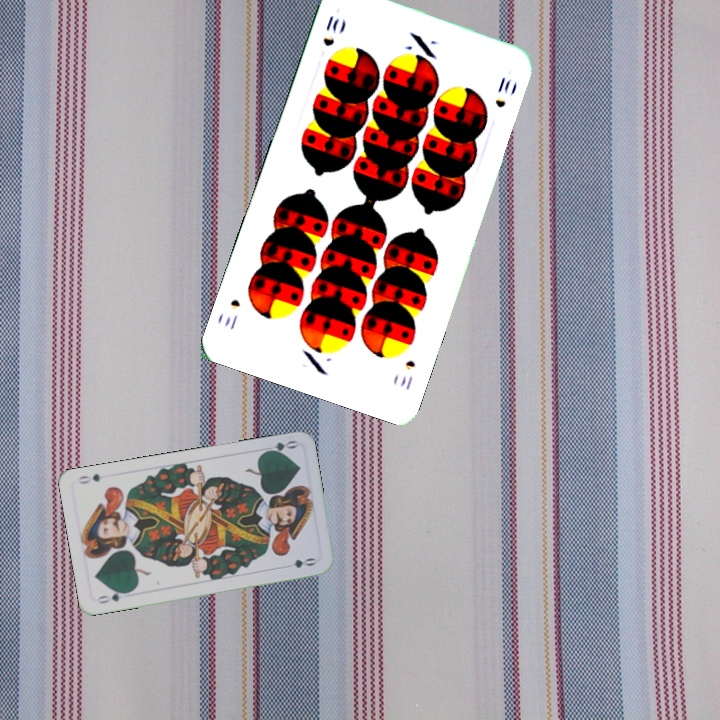GO: (259, 436, 299, 456), (93, 587, 133, 606)
S10: (319, 11, 342, 49), (396, 356, 418, 393)
